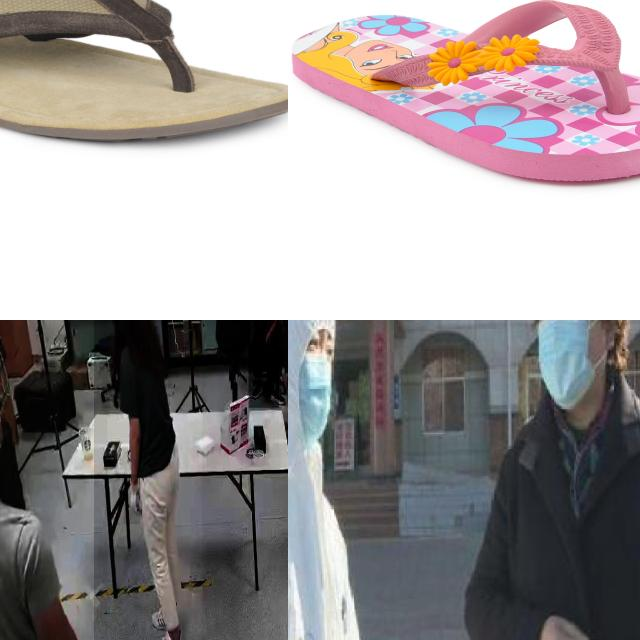Sandals: (289, 0, 640, 182), (0, 0, 288, 145)
face_mask: (530, 320, 621, 400), (288, 320, 337, 448)
hand_glove: (124, 475, 140, 525)
hand_noglove: (536, 612, 597, 640), (264, 328, 272, 346)
person: (473, 320, 640, 640), (107, 320, 202, 640), (0, 320, 94, 640), (288, 320, 379, 640), (248, 320, 279, 408)
shoes: (146, 627, 188, 640)
